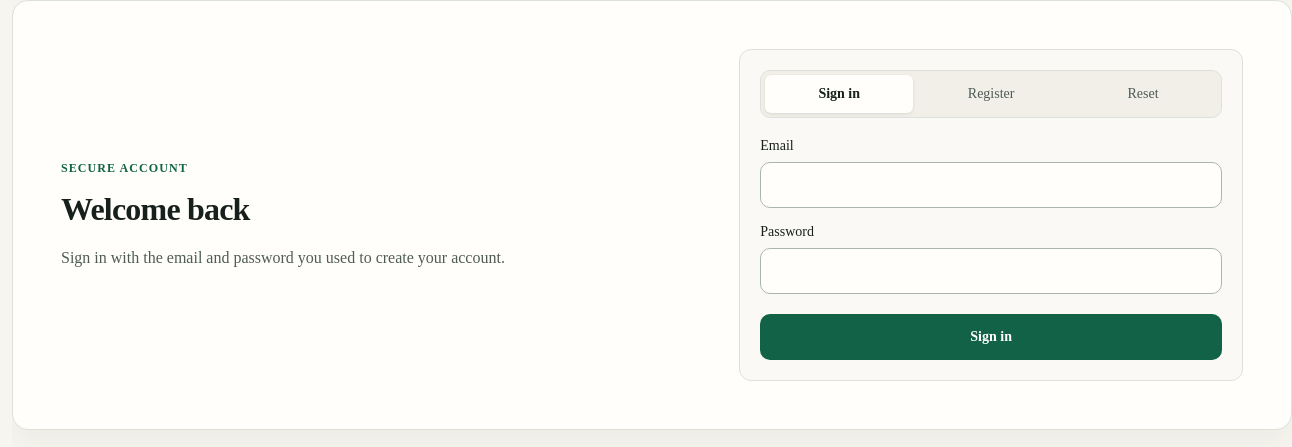
Test case: AuthBoundary › submits login credentials through the auth API boundary
The image size is (1292, 447).
Type "tester@example.com" into the field labelled "Email".
click(991, 185); type("tester@example.com")  # box [760, 162, 1222, 208]
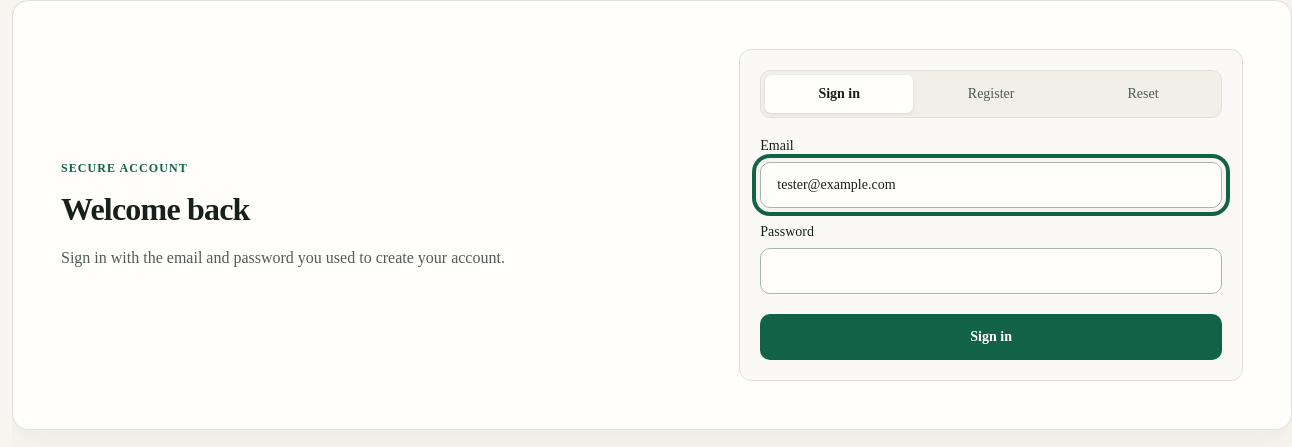
Type "correct horse battery staple" into the password field labelled "Password".
click(991, 271); type("correct horse battery staple")  # box [760, 248, 1222, 294]
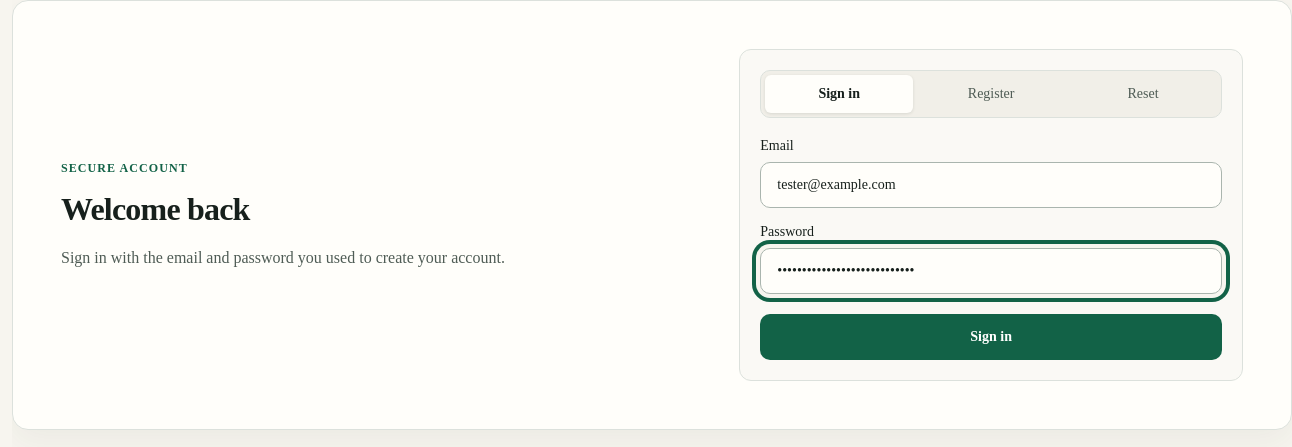
Click the 2nd button "Sign in".
click(991, 337)  # box [760, 314, 1222, 360]
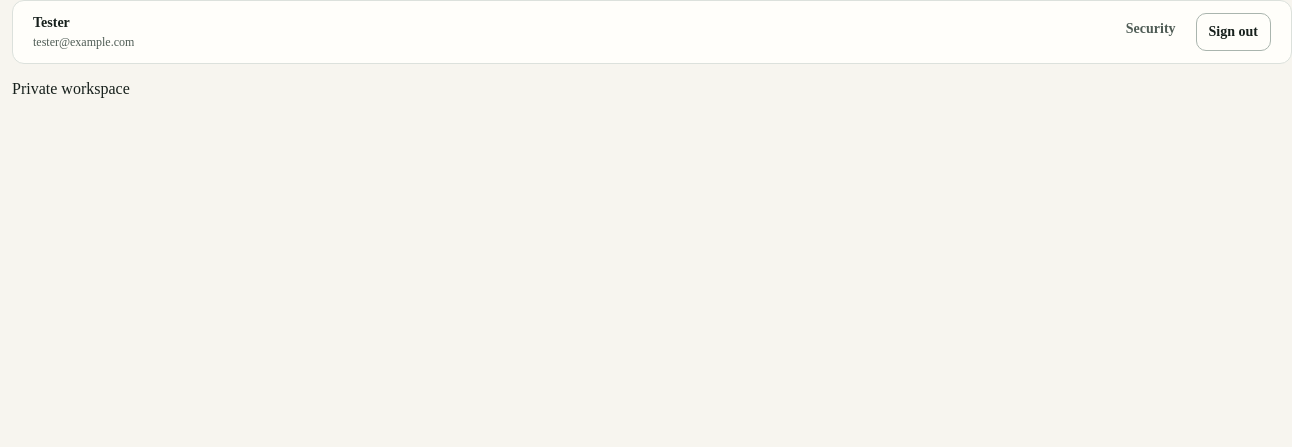
Expected: the text "Private workspace" is shown, [12, 80, 130, 97]
